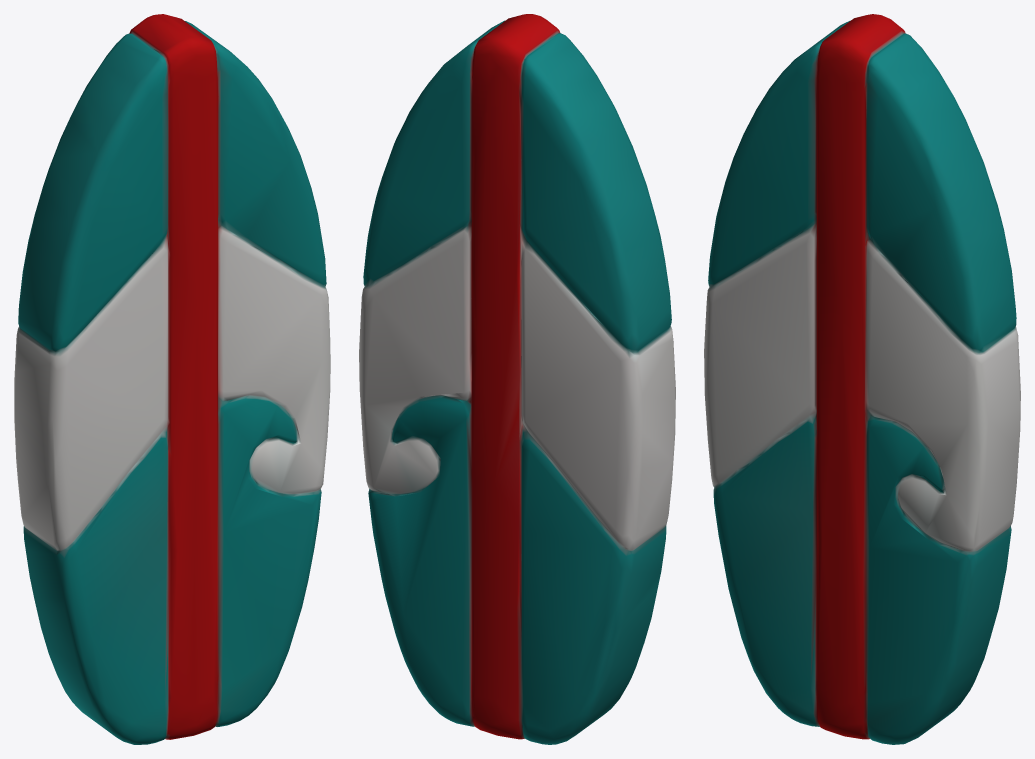
Rendered from meshy-surfboard.glb.
3 renders of one model, left to right at view 1: azimuth 30°, elevation 25°; view 2: azimuth 150°, elevation 25°; view 3: azimuth 330°, elevation 25°, orthographic.
Visible parts, largest first — view 1: Mesh_0; view 2: Mesh_0; view 3: Mesh_0.
Boxes of the visible parts, <box> form: Mesh_0: <box>14,14,330,744</box>; Mesh_0: <box>359,14,675,744</box>; Mesh_0: <box>704,14,1020,744</box>.
Bounding box in the file's own units: 0.8062 × 1.9 × 0.2296.
